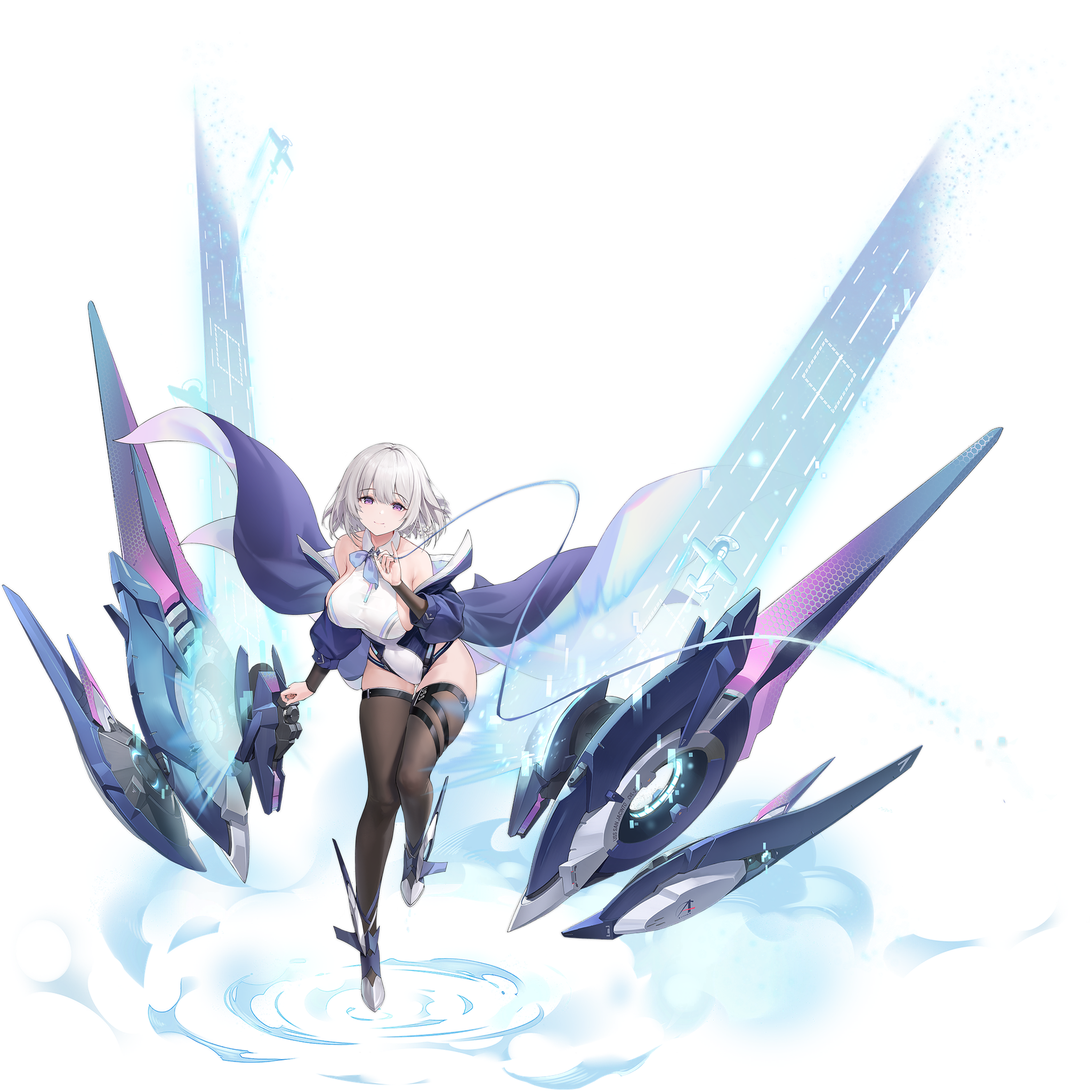person: (208, 406, 609, 1037)
